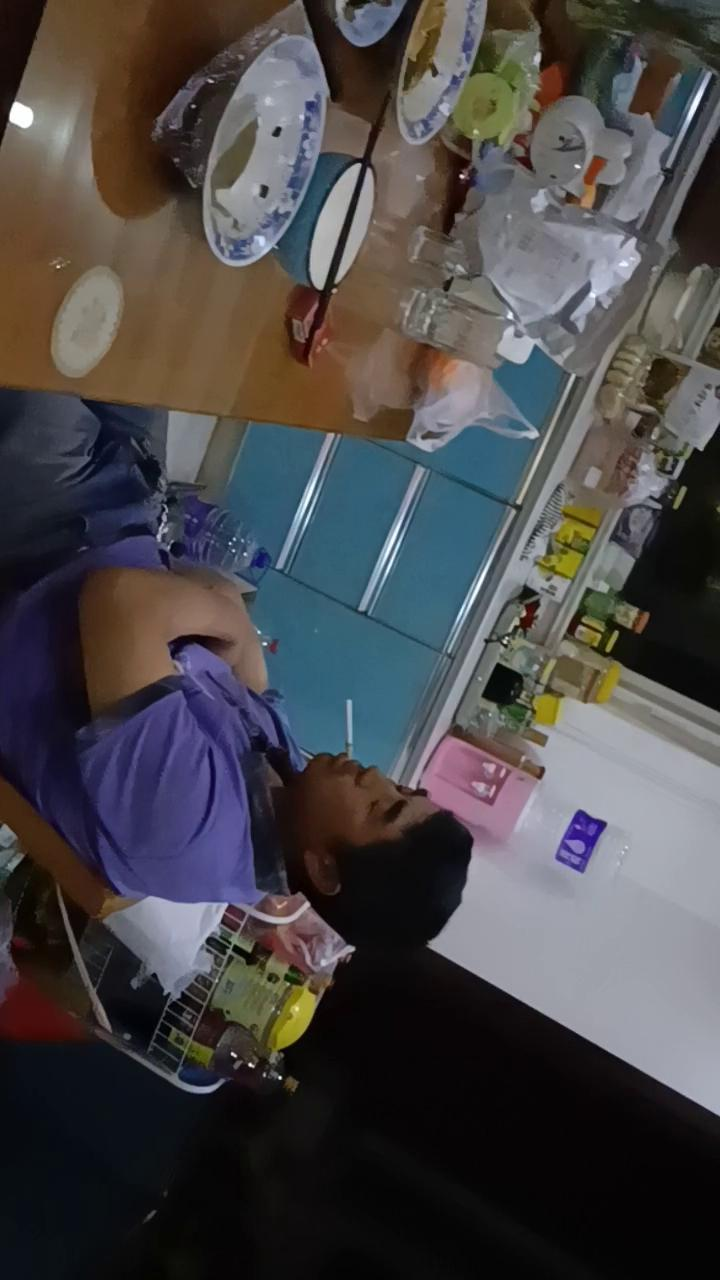smoke: (346, 700, 354, 759)
